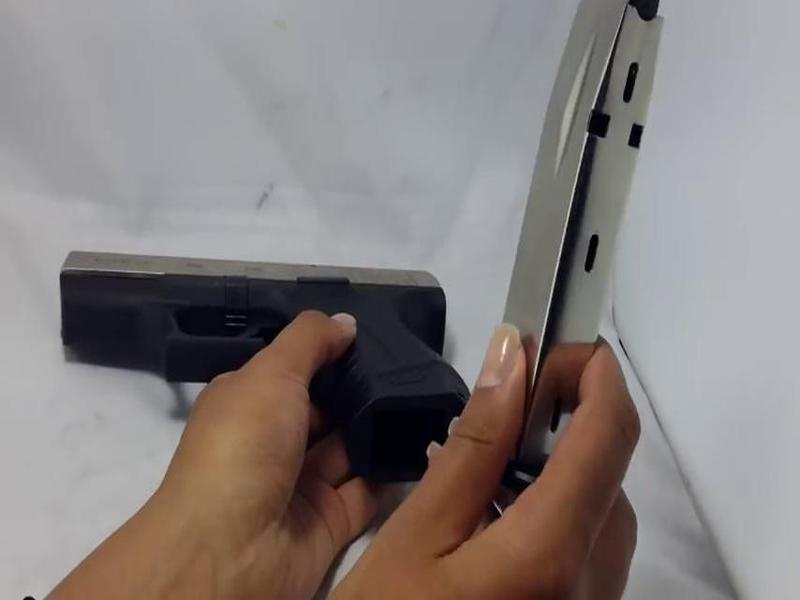Pistola: (52, 216, 484, 503)
